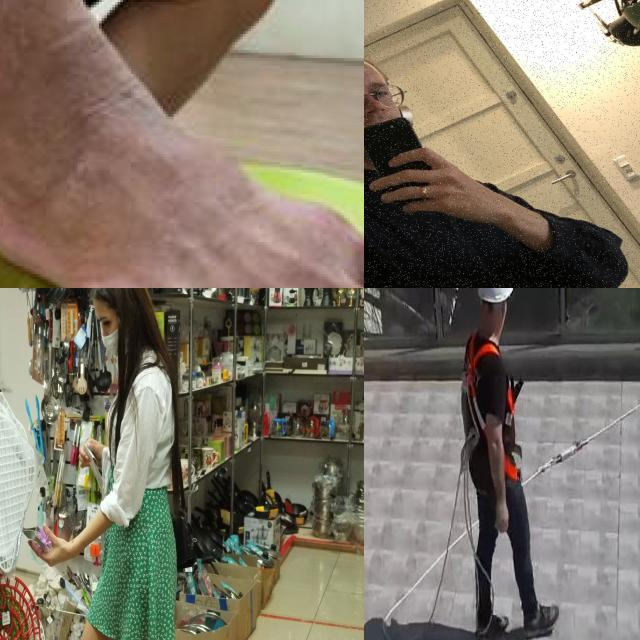Barefoots: (0, 82, 364, 288)
Ear-protection: (364, 26, 436, 192)
Harness: (524, 403, 640, 486), (462, 334, 498, 456)
